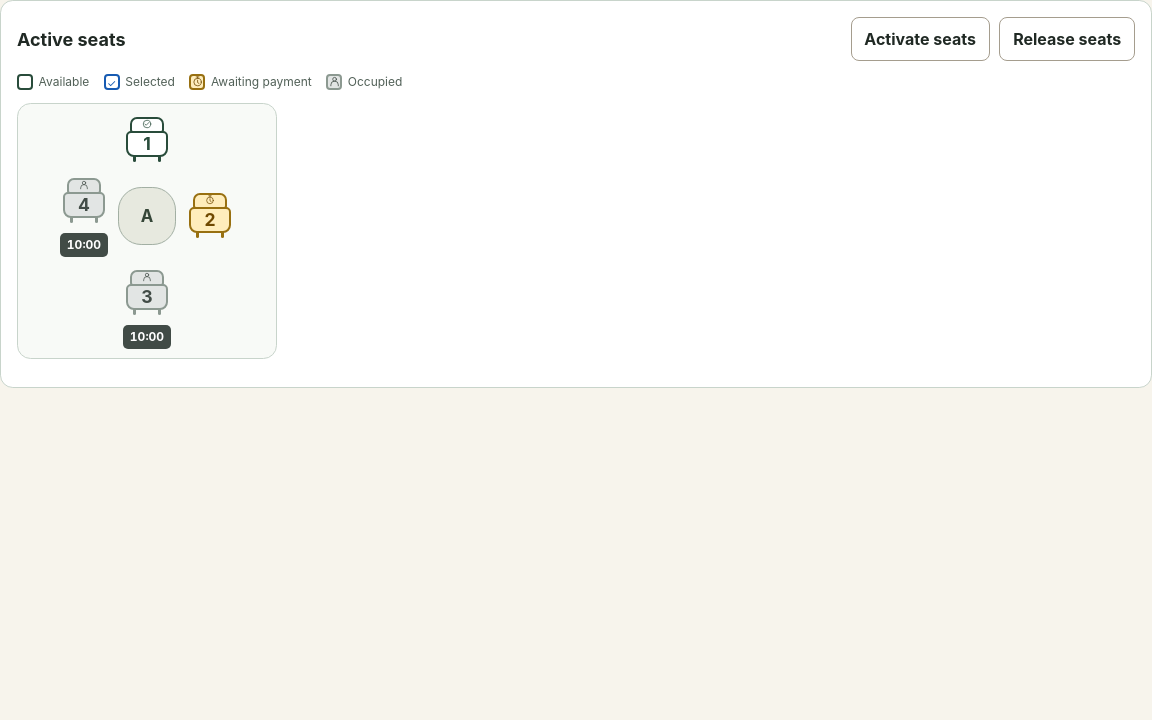
Test case: selects occupied chairs while keeping their status colour and requires release confirmation
Click the button "Release seats": [1067, 39] box top-left (999, 17), bottom-right (1135, 61)
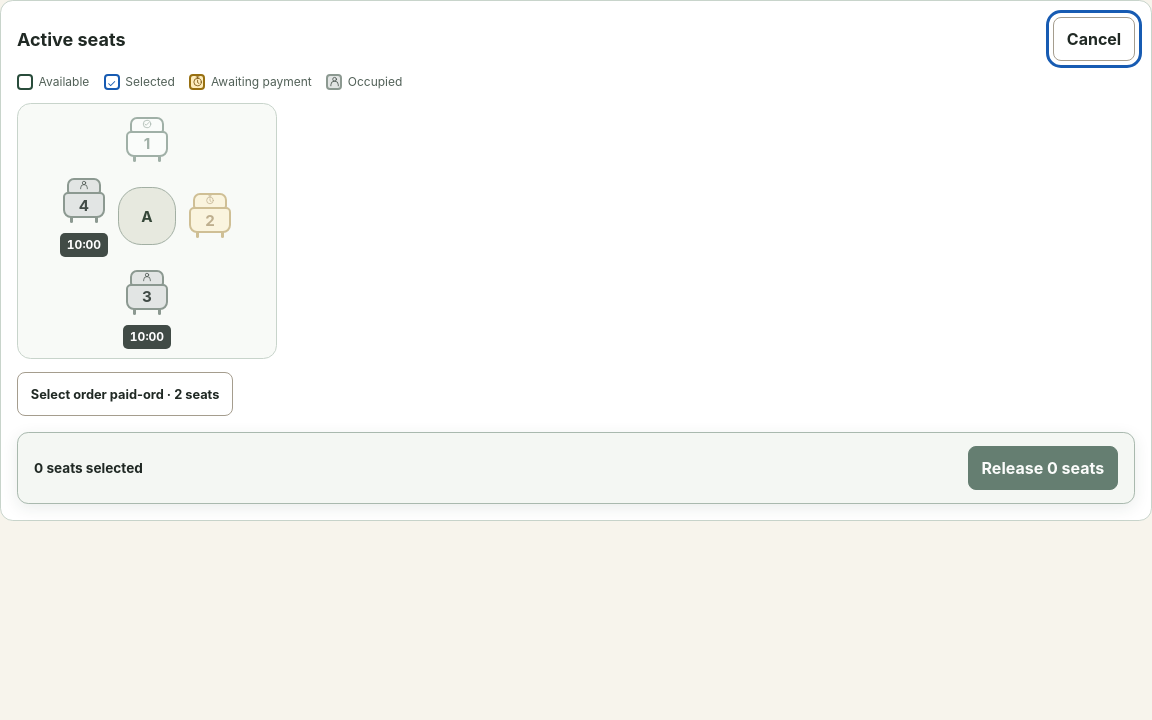
expect the button "Activate seats" is gone: met
expect the button "Release seats" is gone: met
expect the button "Release 0 seats" is disabled: met, box top-left (968, 446), bottom-right (1118, 490)
Click the button named "Table A · Seat 3": [147, 293] box top-left (121, 267), bottom-right (173, 319)
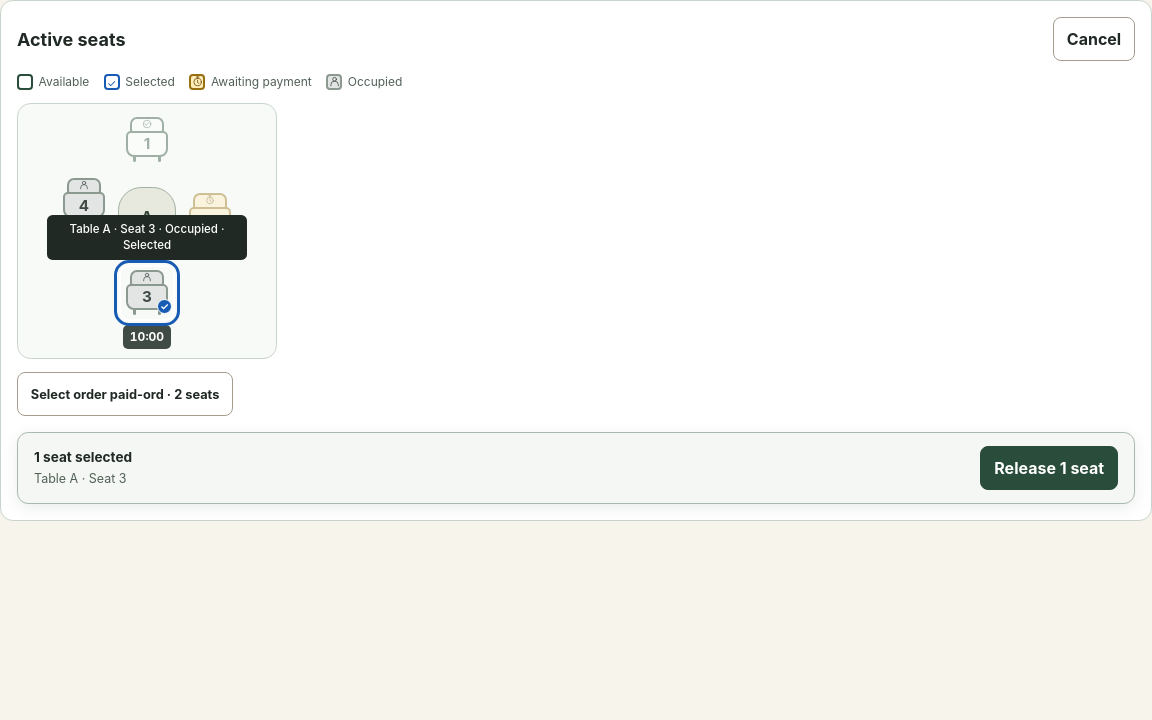
expect the button "Table A · Seat 3" reads "3 ✓ Table A · Seat 3 · Occupied · Selected": met, box top-left (121, 267), bottom-right (173, 319)
Click the button "Release 1 seat": [1049, 468] box top-left (980, 446), bottom-right (1118, 490)
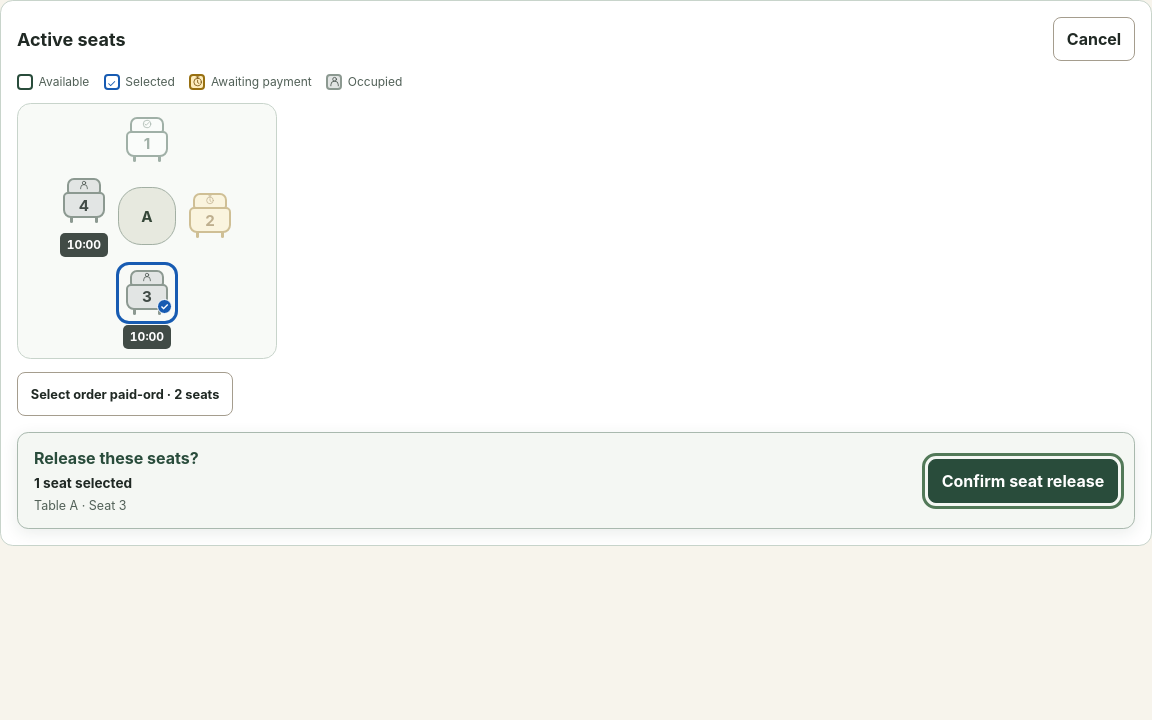
expect the number of buttons "Cancel" is 1: met, box top-left (1053, 17), bottom-right (1135, 61)
expect the text "Release these seats?" is shown: met, box top-left (34, 446), bottom-right (199, 470)
Double-click the button "Confirm seat release": [1023, 481] box top-left (928, 459), bottom-right (1118, 503)
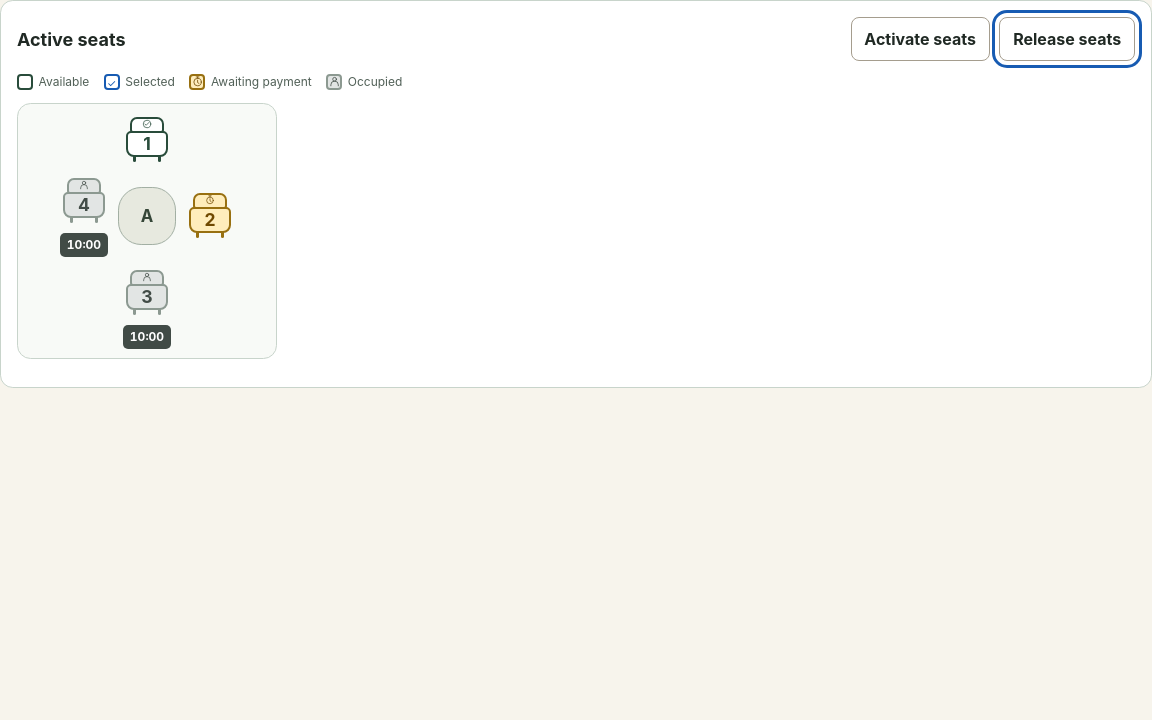
expect the button "Activate seats" is shown: met, box top-left (851, 17), bottom-right (990, 61)
